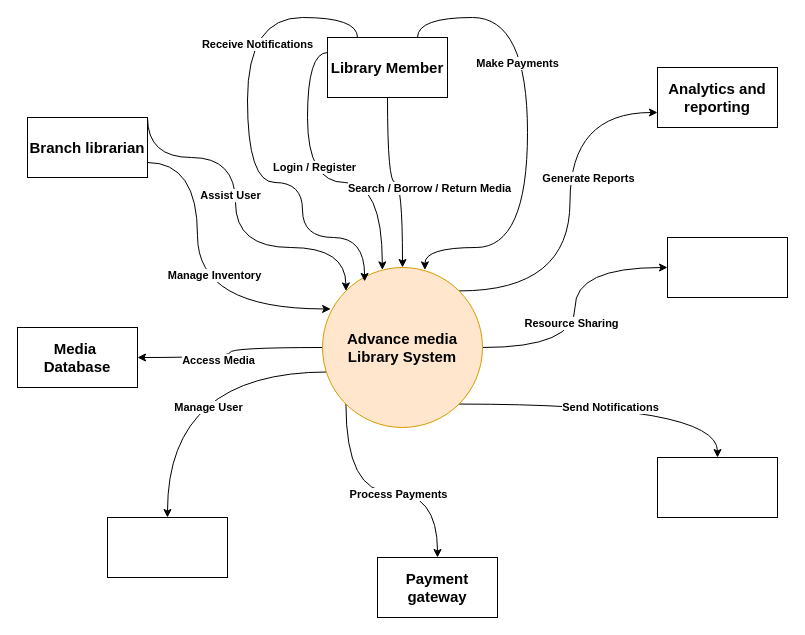
Some shapes in this 805 by 635 pixel diagram are drawn without their labels. The box of each missing label's shape, as (x1, y1, x2, y2) in pixels:
Branch Management System: (666, 236, 788, 298)
Notification service: (656, 456, 778, 518)
User Database: (106, 516, 228, 578)
